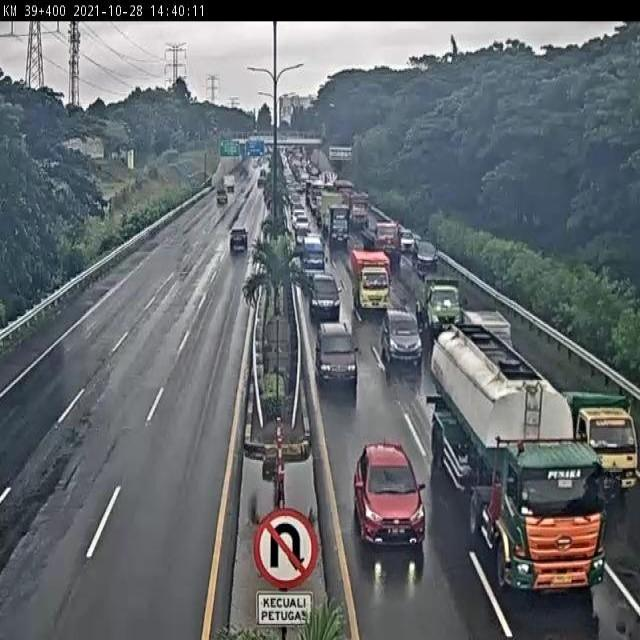big truck: (420, 317, 610, 603)
car: (352, 443, 427, 549), (314, 320, 361, 388), (381, 308, 423, 365), (305, 272, 342, 323), (412, 236, 440, 276), (229, 225, 249, 255), (398, 227, 417, 256), (292, 225, 310, 247)
mid truck: (555, 383, 640, 500), (346, 245, 397, 318), (413, 273, 463, 332), (358, 215, 403, 260)
small bus: (299, 236, 327, 283)
small truck: (460, 301, 515, 356)
